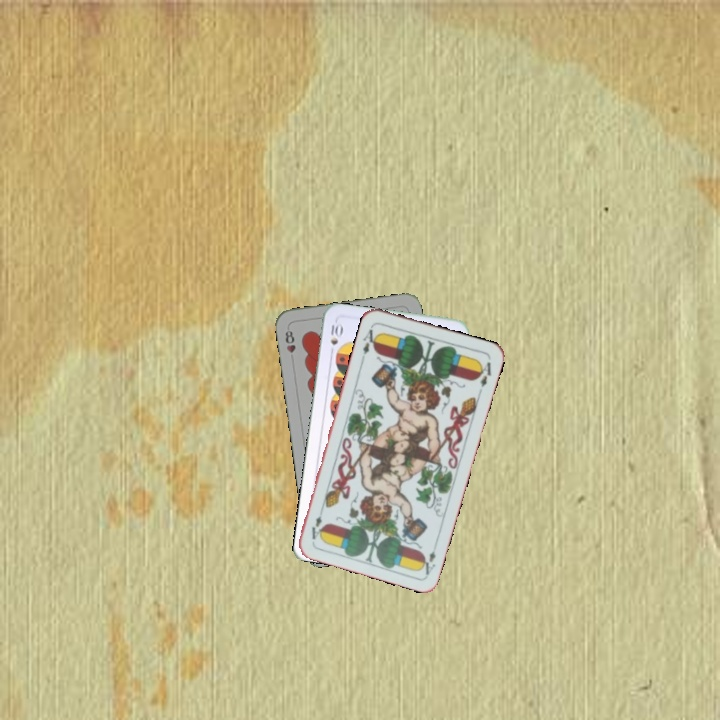EA: (417, 538, 440, 577), (358, 322, 381, 357)
H8: (281, 326, 298, 355)
S10: (326, 317, 344, 348)
